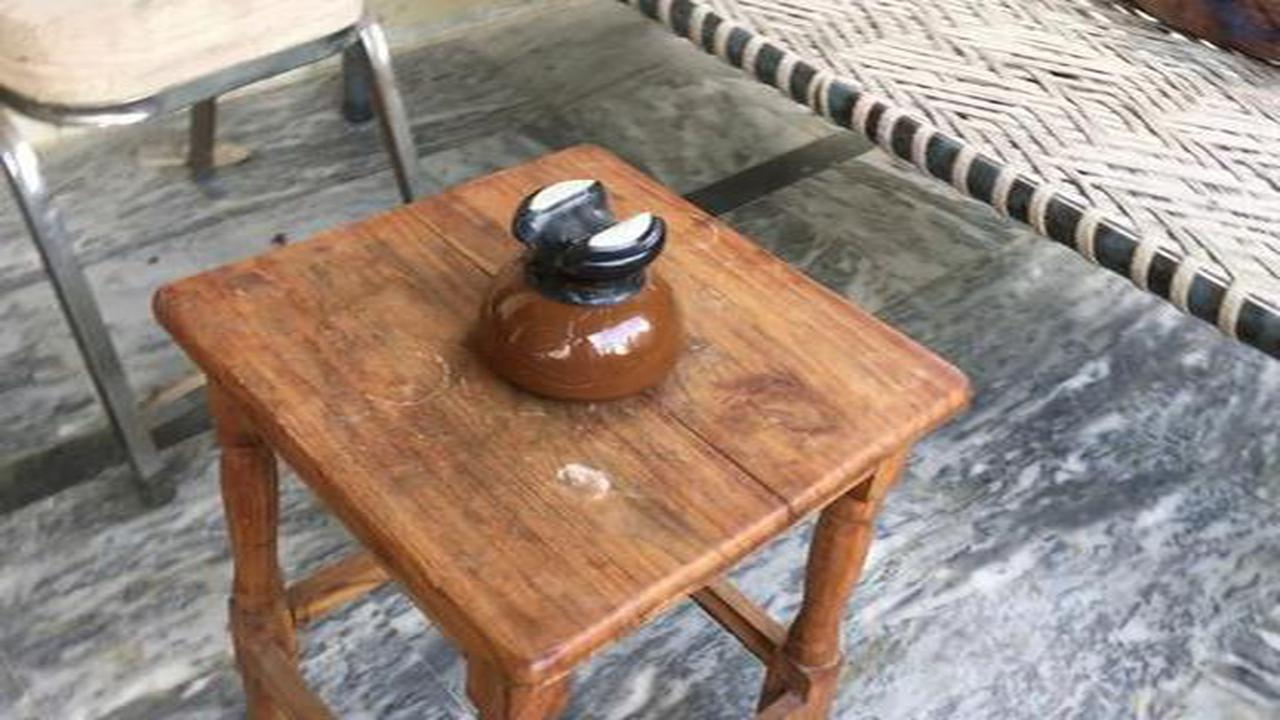insulator_pin: (444, 167, 708, 416)
